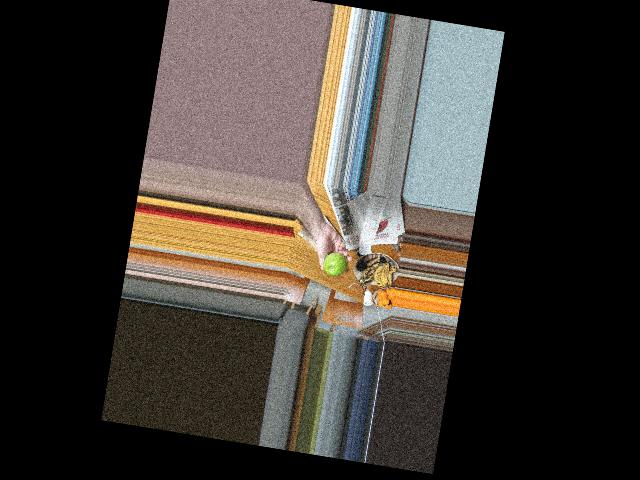apple: (320, 251, 348, 278)
